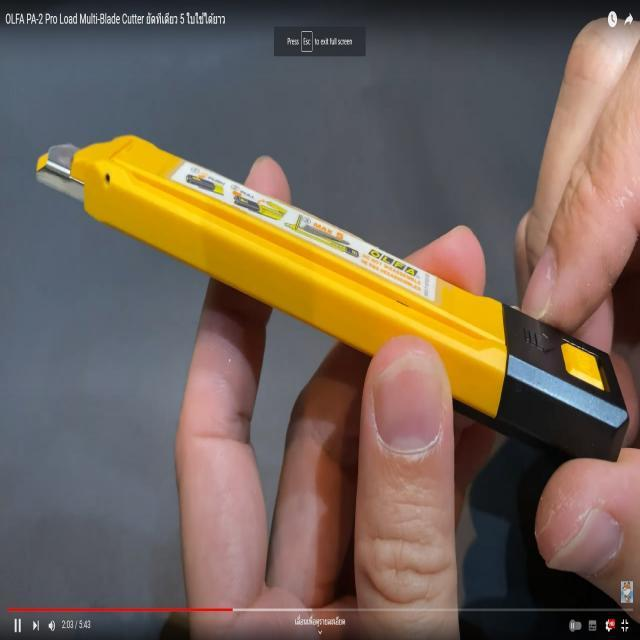cutter: (0, 75, 640, 566)
